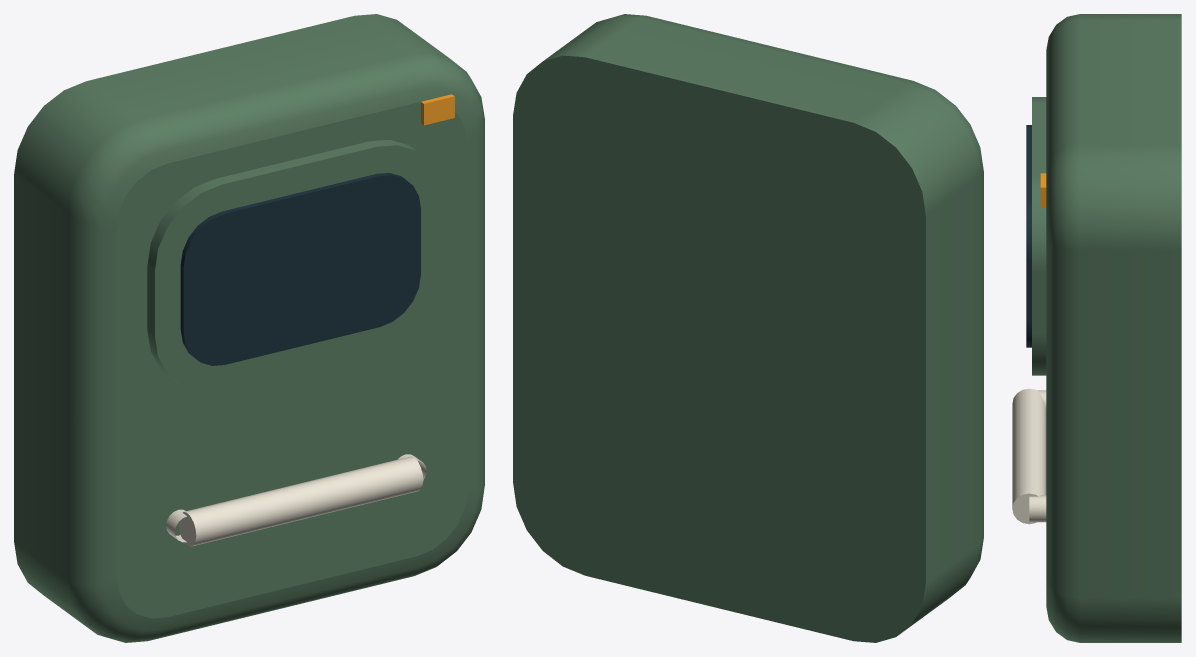
The picture shows the model from 3 angles, left to right: view 1: azimuth 30°, elevation 25°; view 2: azimuth 150°, elevation 25°; view 3: azimuth 270°, elevation 25°; orthographic projection. The views are drawn at different scales.
Parts seen in each view (by area): view 1: t10_o2; view 2: t10_o2; view 3: t10_o2.
Part boxes in pixels (x1,y1,x2,y2): t10_o2: [14, 14, 484, 642]; t10_o2: [513, 14, 983, 642]; t10_o2: [1012, 14, 1181, 642].
Size of the model in its own units: 0.8 by 0.96 by 0.3.
